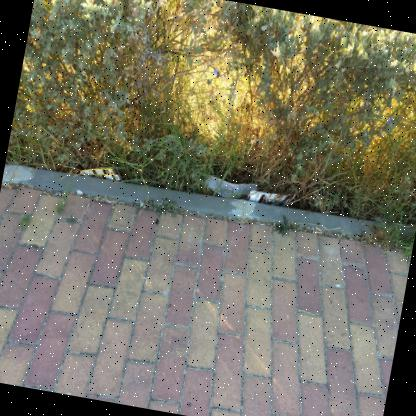Cigarette: (315, 226, 321, 231), (6, 183, 12, 188), (314, 231, 321, 233)
Magazine paper: (245, 190, 295, 207), (73, 168, 124, 181)
Normal paper: (205, 174, 258, 198)
